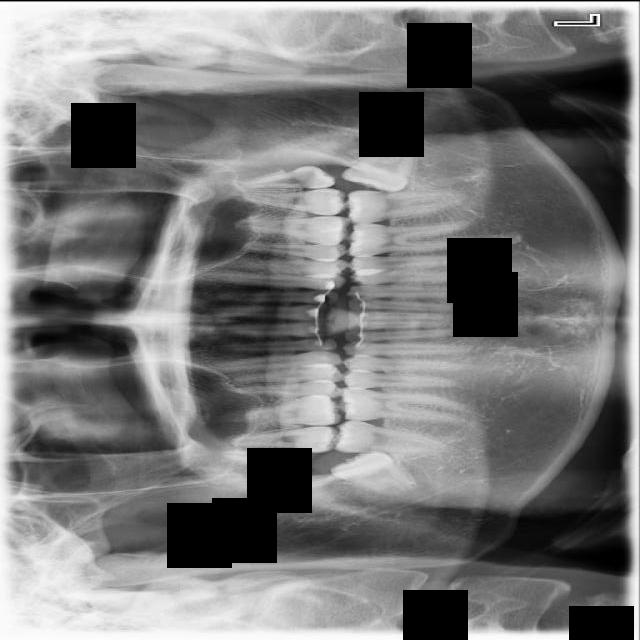3M ESPE Implant: (220, 447, 309, 473)
73: (576, 28, 584, 32)
BioHorizons Implant: (232, 186, 347, 220)
BioLife Implant: (238, 165, 337, 189)
Biomet 3i Implant: (339, 128, 422, 200)
Blue Sky Bio Implant: (345, 184, 468, 224)
Caries: (228, 420, 338, 453)
Implant: (332, 419, 448, 454)
Keystone Dental Implant: (328, 435, 423, 506)
